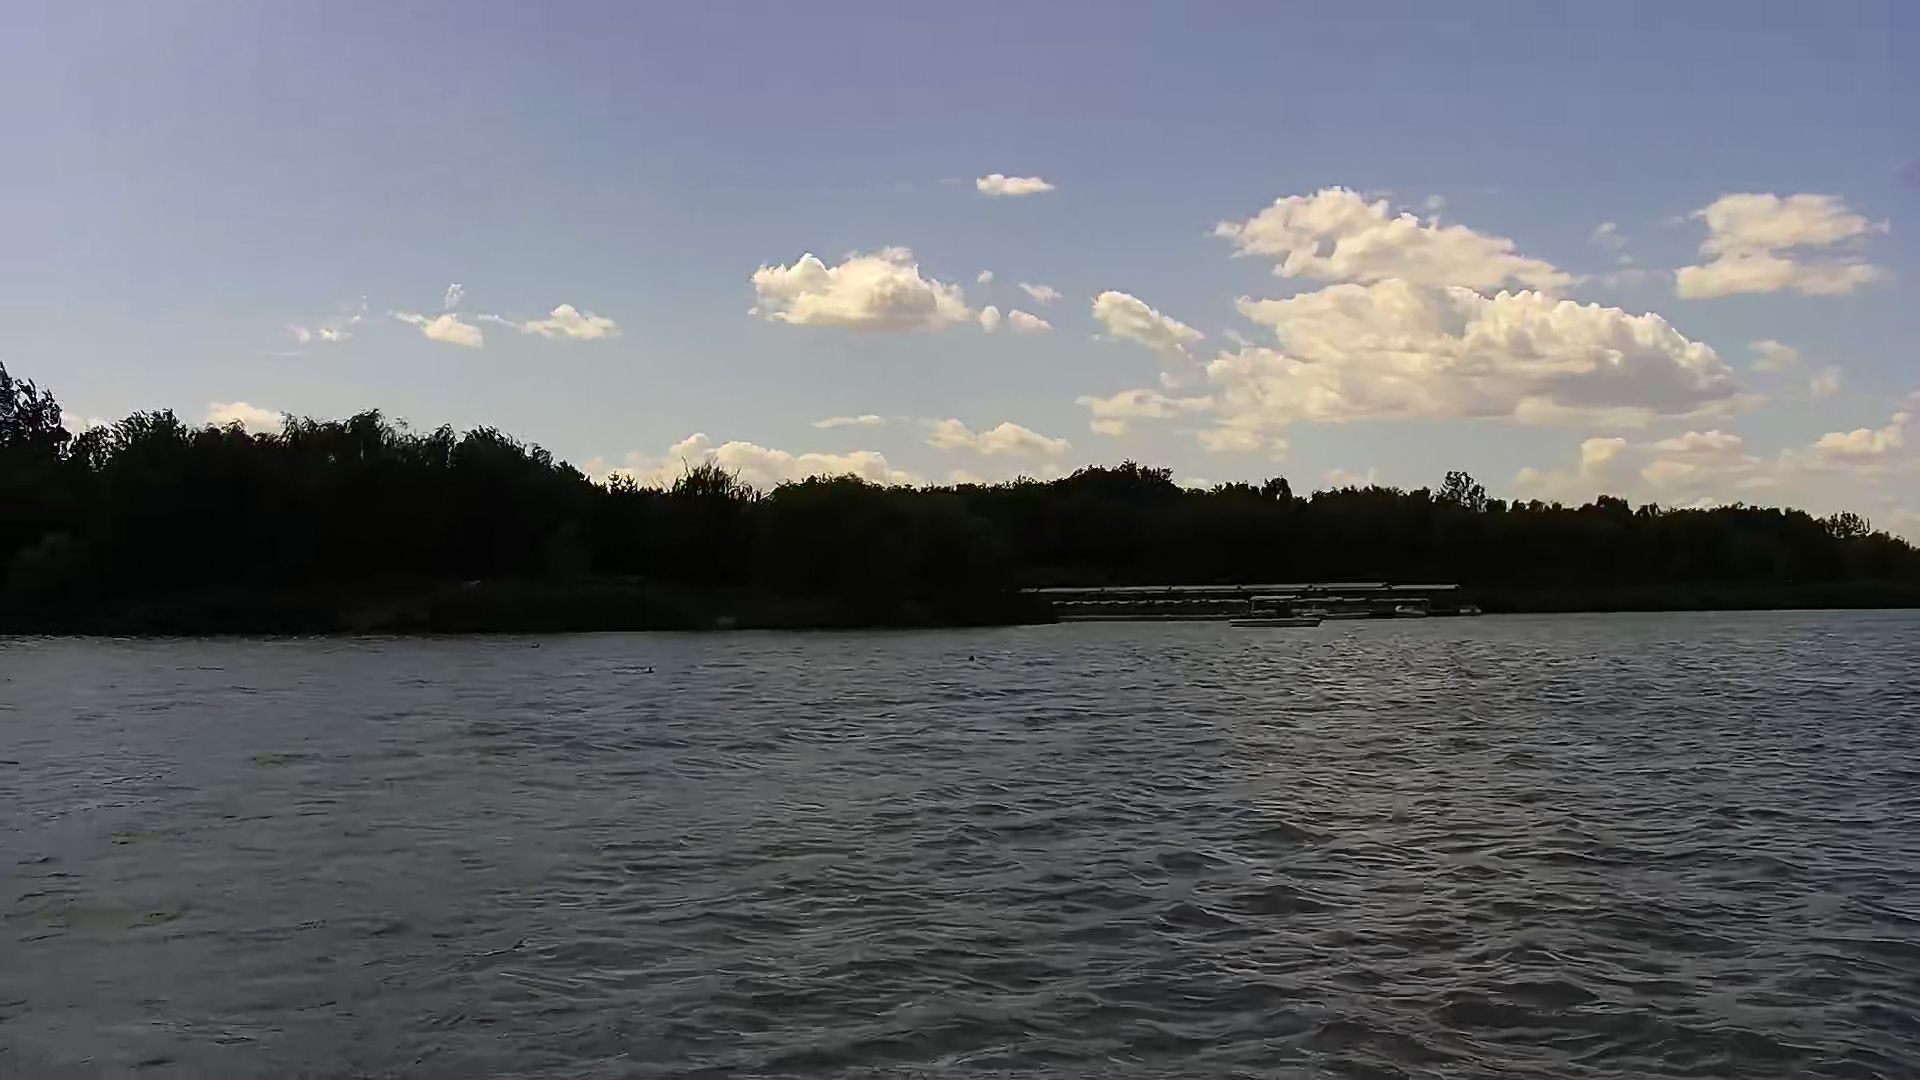boat: (1230, 593, 1327, 630)
harbor: (1015, 582, 1480, 621)
